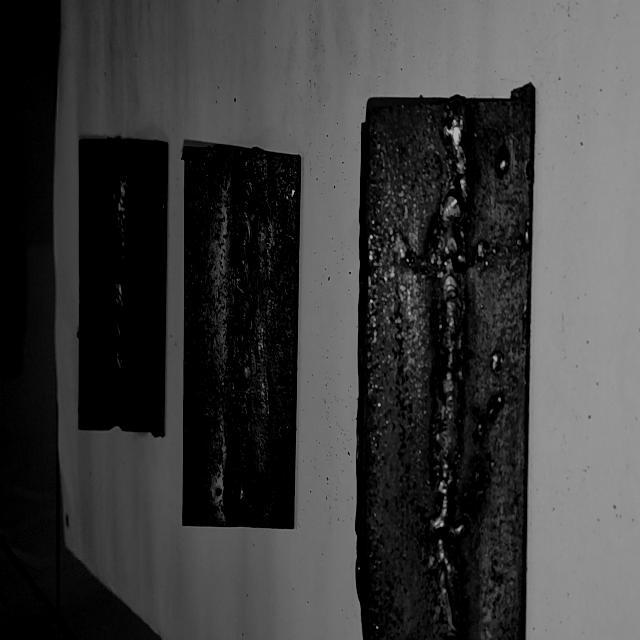Defect: (232, 159, 256, 519)
Welding Line: (428, 106, 470, 632), (232, 155, 258, 524), (110, 141, 128, 425)
Workpiece: (353, 87, 533, 640), (182, 142, 298, 534), (77, 134, 168, 436)
